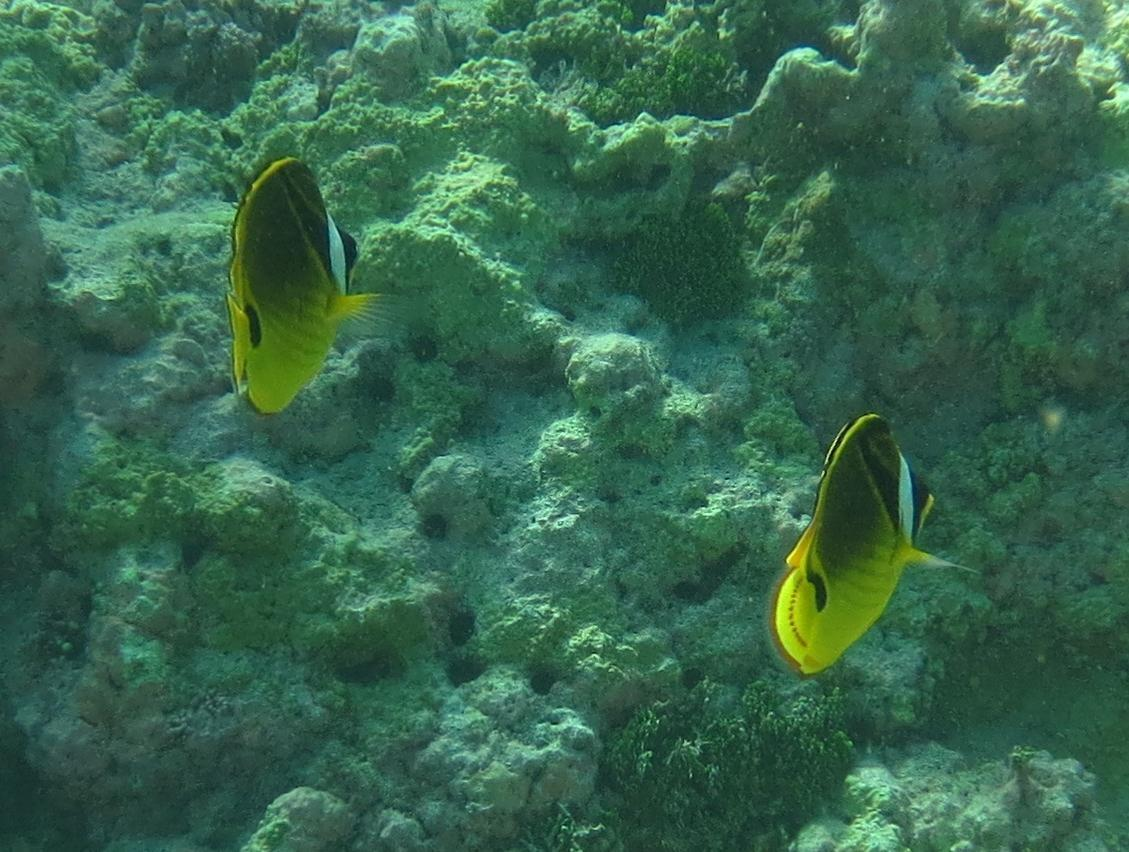Fish: (726, 358, 1017, 716), (141, 131, 431, 433)
